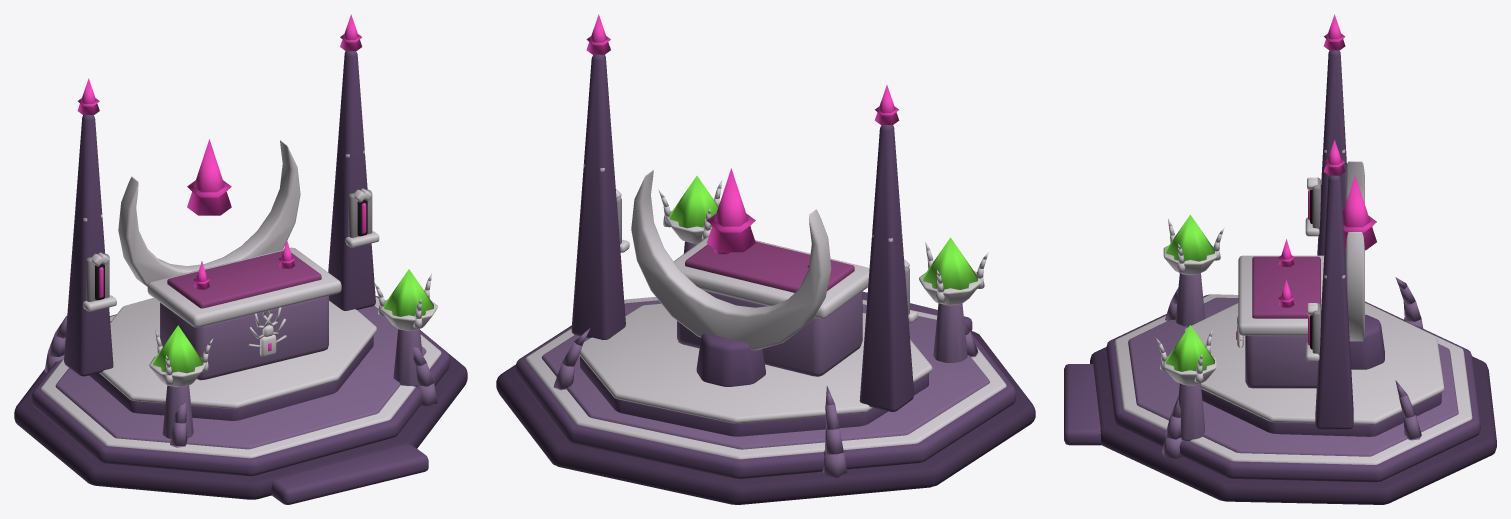
Rendered from Altar.glb.
The picture shows the model from 3 angles, left to right: view 1: azimuth 30°, elevation 25°; view 2: azimuth 150°, elevation 25°; view 3: azimuth 270°, elevation 25°; orthographic projection. The views are drawn at different scales.
Parts seen in each view (by area): view 1: Altar; view 2: Altar; view 3: Altar.
Boxes of the visible parts, x1=… form: Altar: x1=14, y1=14, x2=467, y2=504; Altar: x1=496, y1=14, x2=1035, y2=504; Altar: x1=1064, y1=14, x2=1496, y2=504.
Bounding box in the file's own units: 3.27 × 2.7 × 3.15.
